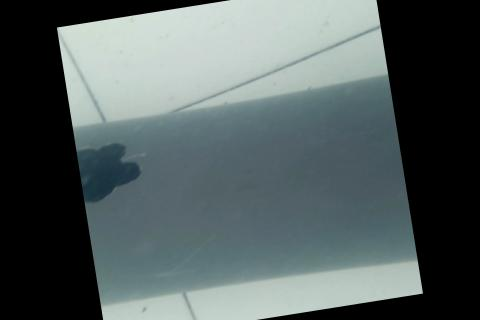kebocoran: (76, 136, 145, 206)
